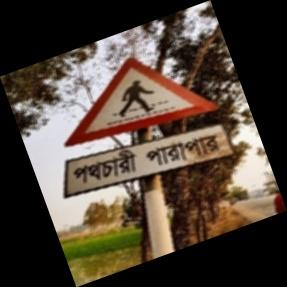Pedestrian-crossing: (61, 56, 231, 200)
